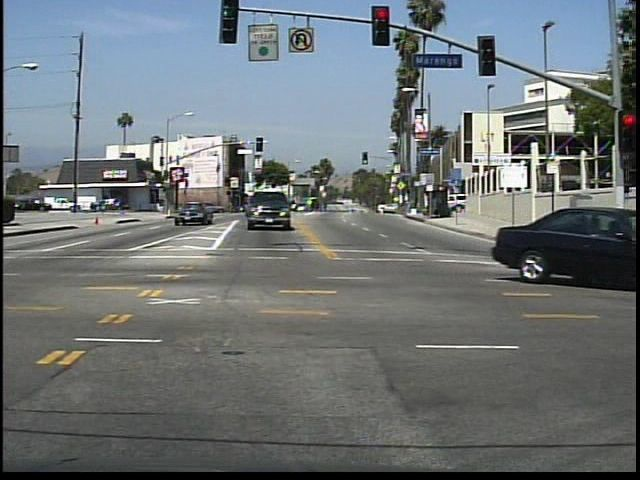person: (118, 195, 130, 219)
